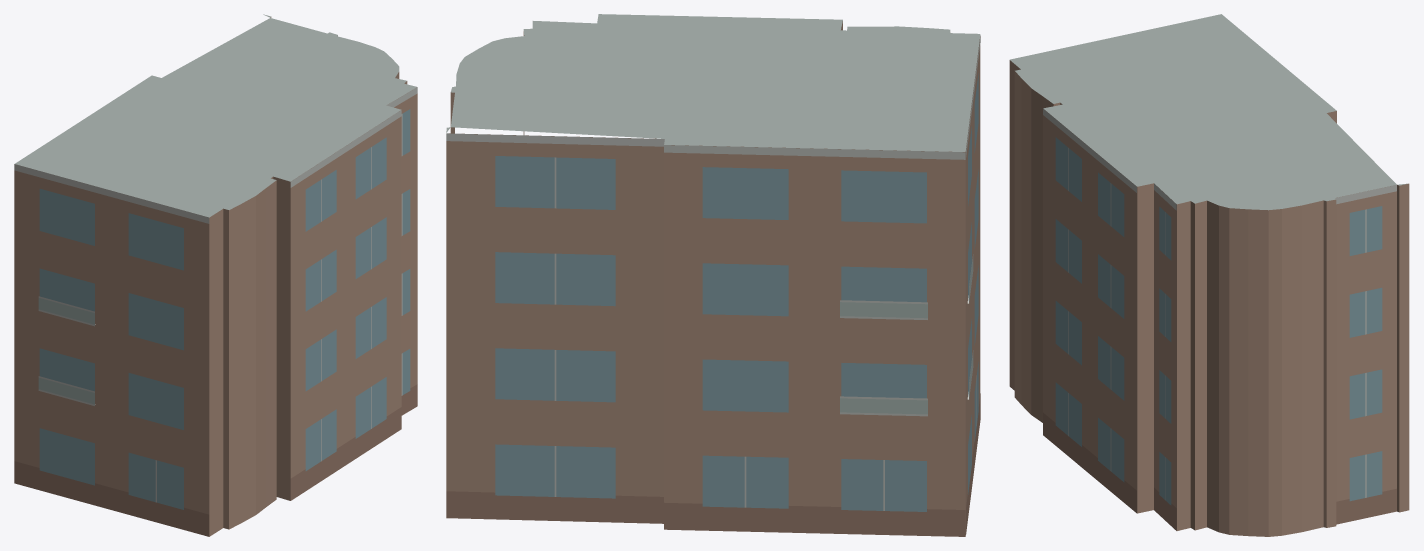
File: survey-upis-32838470.glb
The picture shows the model from 3 angles, left to right: view 1: azimuth 30°, elevation 25°; view 2: azimuth 150°, elevation 25°; view 3: azimuth 270°, elevation 25°; orthographic projection. The views are drawn at different scales.
Visible parts, largest first — view 1: survey-upis-32838470.tmp; view 2: survey-upis-32838470.tmp; view 3: survey-upis-32838470.tmp.
Boxes of the visible parts, bbox=[...] form: survey-upis-32838470.tmp: bbox=[14, 14, 417, 536]; survey-upis-32838470.tmp: bbox=[446, 14, 980, 536]; survey-upis-32838470.tmp: bbox=[1009, 14, 1409, 536].
Size of the model in its own units: 15.58 by 12.1 by 13.43.
